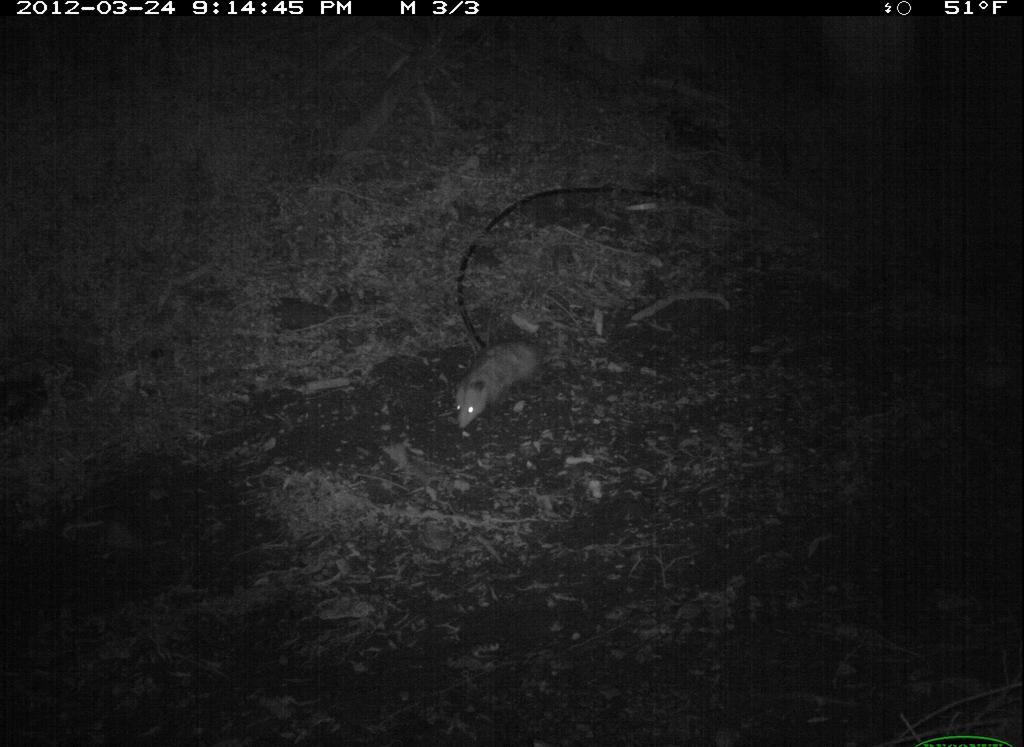opossum: (431, 314, 596, 436)
